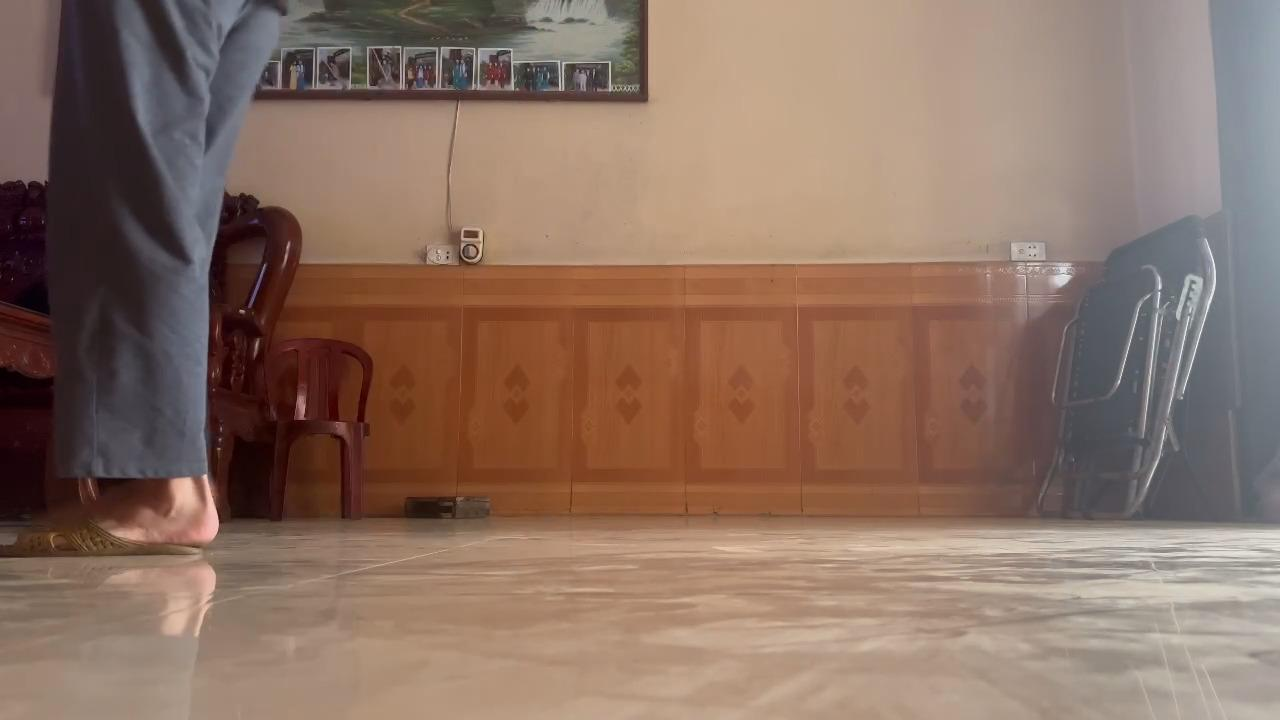no-boot: (0, 482, 227, 574)
